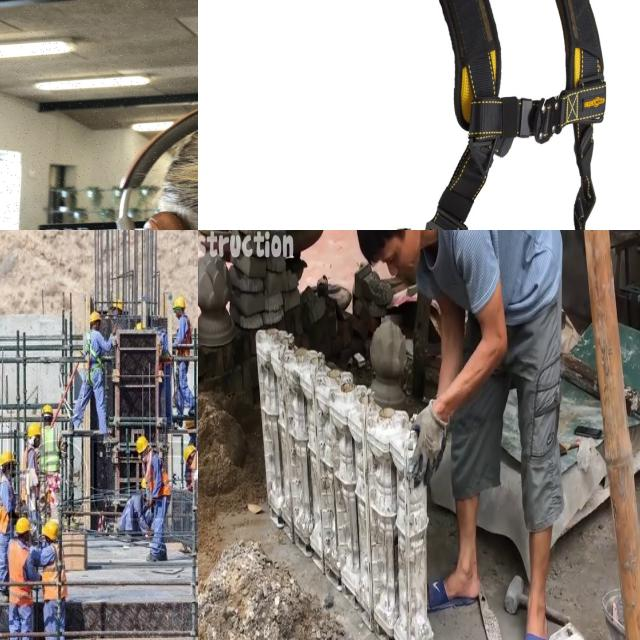Ear-protection: (110, 85, 198, 230)
Harness: (334, 0, 640, 230)
Sandals: (520, 590, 547, 640)
hand_glove: (409, 385, 453, 488)
head_helmet: (43, 522, 64, 544), (133, 434, 155, 453), (15, 516, 32, 534), (173, 294, 189, 312), (0, 450, 18, 465), (43, 397, 56, 417), (185, 444, 197, 462), (89, 309, 103, 322), (30, 420, 40, 438), (140, 478, 150, 489), (115, 298, 124, 309), (136, 321, 147, 330)
person: (134, 429, 176, 569), (40, 523, 73, 640), (168, 292, 198, 417), (9, 515, 38, 640), (79, 306, 108, 426), (41, 408, 68, 502), (152, 318, 170, 423), (112, 498, 149, 546), (22, 433, 40, 514), (0, 456, 8, 586), (181, 436, 198, 492), (115, 286, 131, 321)
vest: (39, 543, 72, 600), (8, 537, 34, 606), (40, 429, 63, 477), (146, 462, 172, 500), (174, 321, 195, 358), (23, 452, 39, 499), (0, 481, 11, 529), (191, 457, 198, 484)
